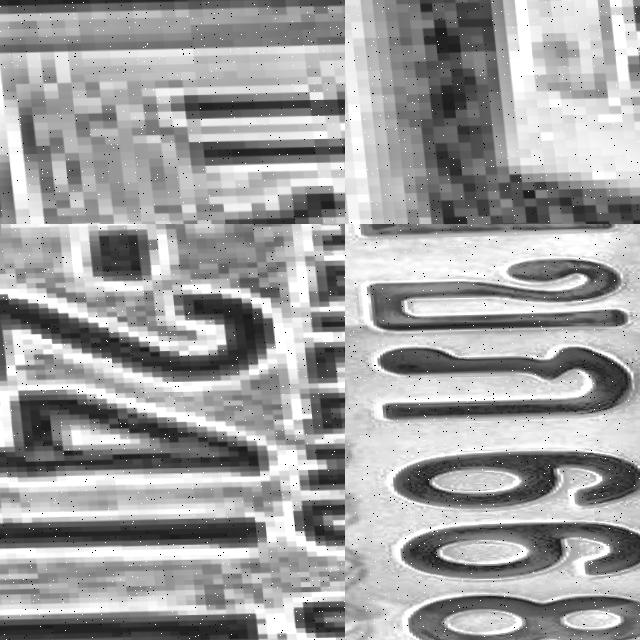license-plate: (0, 224, 345, 640), (345, 224, 640, 640), (0, 0, 345, 224), (345, 0, 640, 224)
